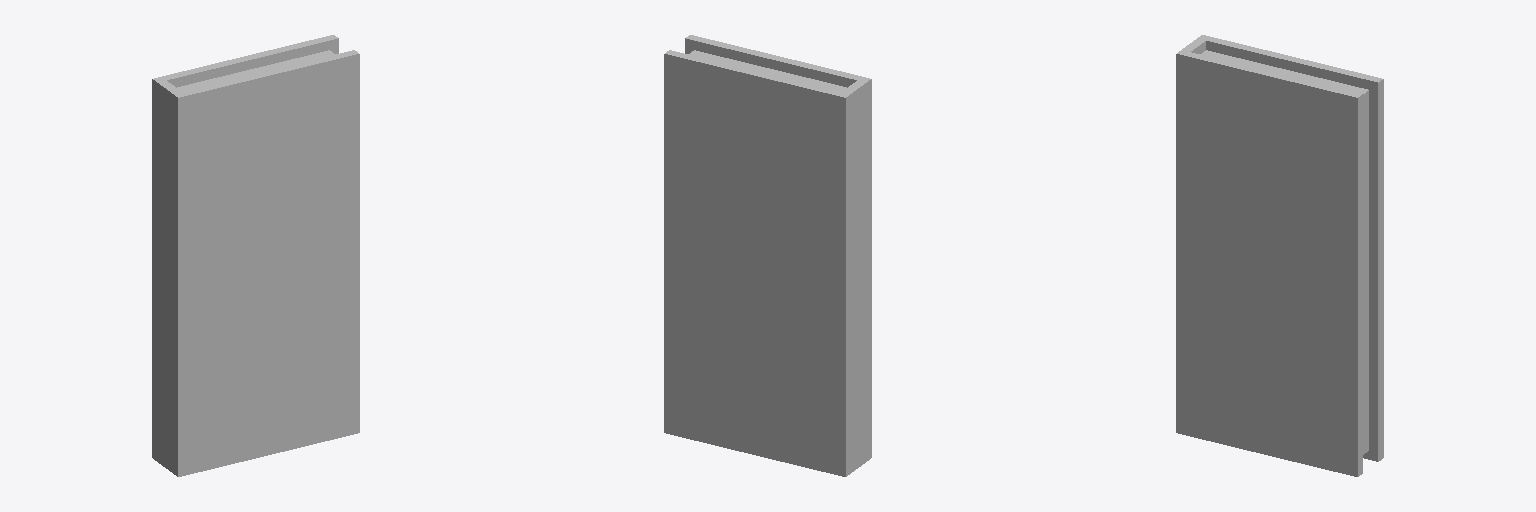
The model's file is book.obj.
3 views of the same model, side by side, from view 1: azimuth 30°, elevation 25°; view 2: azimuth 150°, elevation 25°; view 3: azimuth 330°, elevation 25° (orthographic).
Parts seen in each view (by area): view 1: none; view 2: none; view 3: none.
Part boxes in pixels (x1,y1,x2,y2): none: (152,35,359,476); none: (664,35,871,476); none: (1176,35,1383,476).
Size of the model in its own units: 0.4 by 0.8 by 0.0995.